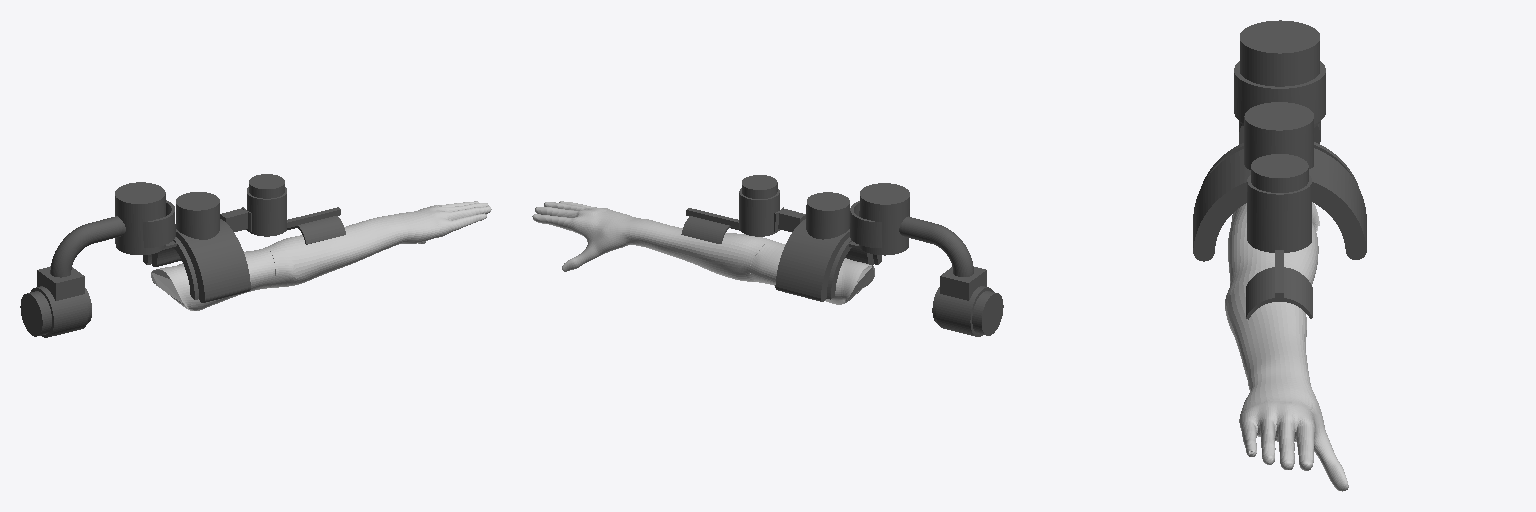
The robot description file, URDF, robot "Exoskeleton":
<?xml version="1.0" ?>
<!-- =================================================================================== -->
<!-- |    This document was autogenerated by xacro from                                | -->
<!-- |    EDITING THIS FILE BY HAND IS NOT RECOMMENDED                                 | -->
<!-- =================================================================================== -->
<robot name="Exoskeleton">
	 
# output dir

	<!-- Human body -->
	<link name="base">
		<inertial>
			<origin rpy="0 0 0" xyz="0 0 1.15"/>
			<mass value="1"/>
			<inertia ixx="1" ixy="0" ixz="0" iyy="1" iyz="0" izz="1"/>
		</inertial>
		<visual>
			<origin rpy="0 0 1.5707963267948966" xyz="0.33 0.22 0.0"/>
			<geometry>
				<mesh filename="mesh/torso.obj" scale="0.027 0.027 0.027"/>
			</geometry>
			<material name="color_human">
				<color rgba="0.8 0.8 0.8 1.0"/>
			</material>
		</visual>
	</link>
	<!-- 3% of 75kg = 2.25 -->
	<link name="upper_arm">
		<inertial>
			<origin rpy="0 0 0" xyz="0 0 -0.155"/>
			<inertia ixx="0.01875" ixy="0" ixz="0" iyy="0.01875" iyz="0" izz="0.00375"/>
			<mass value="2.25"/>
		</inertial>
		<visual>
			<!-- x=up/down, y=side in/out, z=back/forward -->
			<origin rpy="0 3.1415926535897  1.5707963267948966" xyz="0.08499999999999999 -0.21999999999999986 0.8412999999999999"/>
			<geometry>
				<mesh filename="mesh/upperarm.obj" scale="0.027 0.027 0.027"/>
			</geometry>
			<material name="color_human">
				<color rgba="0.8 0.8 0.8 1.0"/>
			</material>
		</visual>
	</link>
	<!-- 2% of 75kg = 1.5 -->
	<link name="lower_arm">
		<inertial>
			<origin rpy="0 0 0" xyz="0 0.125 0"/>
			<inertia ixx="0.008515625" ixy="0" ixz="0" iyy="0.00140625" iyz="0" izz="0.008515625"/>
			<mass value="1.5"/>
		</inertial>
		<visual>
			<!-- x=up/down, y=side in/out, z=back/forward -->
			<origin rpy="0 -1.5707963267948966  1.5707963267948966" xyz="0.08499999999999999 0.8412999999999999 0.21999999999999986"/>
			<geometry>
				<mesh filename="mesh/lowerarm.obj" scale="0.027 0.027 0.027"/>
			</geometry>
			<material name="color_human">
				<color rgba="0.8 0.8 0.8 1.0"/>
			</material>
		</visual>
	</link>
	<link name="sAA_Unit">
		<inertial>
			<origin rpy="0 0 0" xyz="0 0.1301 -0.1279"/>
			<mass value="6.712"/>
			<inertia ixx="0.3787893" ixy="-0.0006556" ixz="-0.0006709" iyy="0.192833" iyz="0.0540633" izz="0.1956839"/>
		</inertial>
		<visual>
			<origin rpy="0 1.5707963267948966 0" xyz="0 0 -0.2"/>
			<geometry>
				<mesh filename="mesh/sAA_simple.obj" scale="0.001 0.001 0.001"/>
			</geometry>
			<material name="color_exo">
				<color rgba="0.4 0.4 0.4 1.0"/>
			</material>
		</visual>
	</link>
	<link name="sFE_Unit">
		<inertial>
			<origin rpy="0 0 0" xyz="0.0001 0.1051 -0.1201"/>
			<mass value="3.487"/>
			<inertia ixx="0.1108677" ixy="-0.0000977" ixz="0.0000399" iyy="0.0689688" iyz="0.0384741" izz="0.0569634"/>
		</inertial>
		<visual>
			<origin rpy="1.5707963267948966 3.1415926535897 1.5707963267948966" xyz="0 -0.215 0"/>
			<geometry>
				<mesh filename="mesh/sFE_simple.obj" scale="0.001 0.001 0.001"/>
			</geometry>
			<material name="color_exo">
				<color rgba="0.4 0.4 0.4 1.0"/>
			</material>
		</visual>
	</link>
	<link name="sIE_Unit">
		<inertial>
			<origin rpy="0 0 0" xyz="-0.0006 0.1079 -0.03"/>
			<mass value="1.663"/>
			<inertia ixx="0.0266938" ixy="0.0001282" ixz="-0.0000556" iyy="0.007941" iyz="0.0038772" izz="0.0235228"/>
		</inertial>
		<visual>
			<origin rpy="0 1.5707963267948966 0" xyz="0 0 -0.512"/>
			<geometry>
				<mesh filename="mesh/sIE_simple.obj" scale="0.001 0.001 0.001"/>
			</geometry>
			<material name="color_exo">
				<color rgba="0.4 0.4 0.4 1.0"/>
			</material>
		</visual>
	</link>
	<link name="eFE_Unit">
		<inertial>
			<origin rpy="0 0 0" xyz="0 0.0557 -0.0803"/>
			<mass value="0.494"/>
			<inertia ixx="0.0069974" ixy="-0.0000009" ixz="-0.0000004" iyy="0.0035498" iyz="0.001812" izz="0.0037622"/>
		</inertial>
		<visual>
			<origin rpy="-1.05 1.5707963267948966 0" xyz="0 0 -0.12"/>
			<geometry>
				<mesh filename="mesh/eFE_simple.obj" scale="0.001 0.001 0.001"/>
			</geometry>
			<material name="color_exo">
				<color rgba="0.4 0.4 0.4 1.0"/>
			</material>
		</visual>
	</link>
	<joint name="sAA" type="continuous">
		<parent link="base"/>
		<child link="sAA_Unit"/>
		<origin rpy="1.5707963267948966 0 1.5707963267948966" xyz="0.2483 0 1.15"/>
		<axis xyz="0 0 1"/>
	</joint>
	<joint name="sFE" type="continuous">
		<parent link="sAA_Unit"/>
		<child link="sFE_Unit"/>
		<origin rpy="1.5707963267948966 0 0" xyz="0 0 0"/>
		<axis xyz="0 0 1"/>
	</joint>
	<joint name="sIE" type="continuous">
		<parent link="sFE_Unit"/>
		<child link="sIE_Unit"/>
		<origin rpy="-1.5707963267948966 0 0" xyz="0 0.3087 0"/>
		<axis xyz="0 0 1"/>
	</joint>
	<joint name="eFE" type="continuous">
		<parent link="sIE_Unit"/>
		<child link="eFE_Unit"/>
		<origin rpy="1.5707963267948966 0 0" xyz="0 0 0"/>
		<axis xyz="0 0 1"/>
	</joint>
	<joint name="sIE_to_upper" type="fixed">
		<parent link="sIE_Unit"/>
		<child link="upper_arm"/>
		<origin rpy="0 0 0" xyz="0 0 0"/>
	</joint>
	<joint name="eFe_to_lower" type="fixed">
		<parent link="eFE_Unit"/>
		<child link="lower_arm"/>
		<origin rpy="0 0 0" xyz="0 0 0"/>
	</joint>
</robot>

--- Render facts (derived) ---
3 views of the same robot in one strip: view 1: azimuth 30°, elevation 25°; view 2: azimuth 150°, elevation 25°; view 3: azimuth 270°, elevation 25° (orthographic).
Model Exoskeleton with 7 links and 6 joints (4 continuous, 2 fixed), rooted at base, posed every joint at zero.
Visible links, largest first — view 1: lower_arm, sAA_Unit, sIE_Unit, eFE_Unit, sFE_Unit, upper_arm; view 2: lower_arm, sAA_Unit, sIE_Unit, eFE_Unit, sFE_Unit, upper_arm; view 3: lower_arm, sIE_Unit, eFE_Unit, sFE_Unit, sAA_Unit, upper_arm.
Link boxes in pixels (x1,y1,x2,y2): lower_arm: (265,201,491,287); sAA_Unit: (20,200,175,337); sIE_Unit: (152,192,251,302); eFE_Unit: (247,174,345,244); sFE_Unit: (115,182,198,299); upper_arm: (151,248,274,310); lower_arm: (532,201,772,281); sAA_Unit: (850,201,1003,336); sIE_Unit: (774,192,873,301); eFE_Unit: (681,175,779,243); sFE_Unit: (826,183,909,299); upper_arm: (750,241,874,304); lower_arm: (1225,264,1348,491); sIE_Unit: (1193,102,1366,261); eFE_Unit: (1246,154,1312,319); sFE_Unit: (1201,20,1358,186); sAA_Unit: (1234,61,1325,144); upper_arm: (1228,202,1319,284).
Size in the robot's own frame: 1.17 by 0.2403 by 0.3361 metres.
Meshes: 7 distinct files referenced, 6 mesh visuals loaded (6 OBJ); not drawn: 1 (reference not matched to a file when rendering).